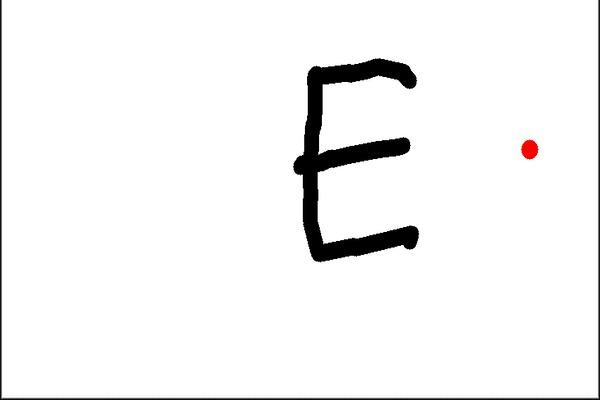E: (289, 52, 433, 267)
